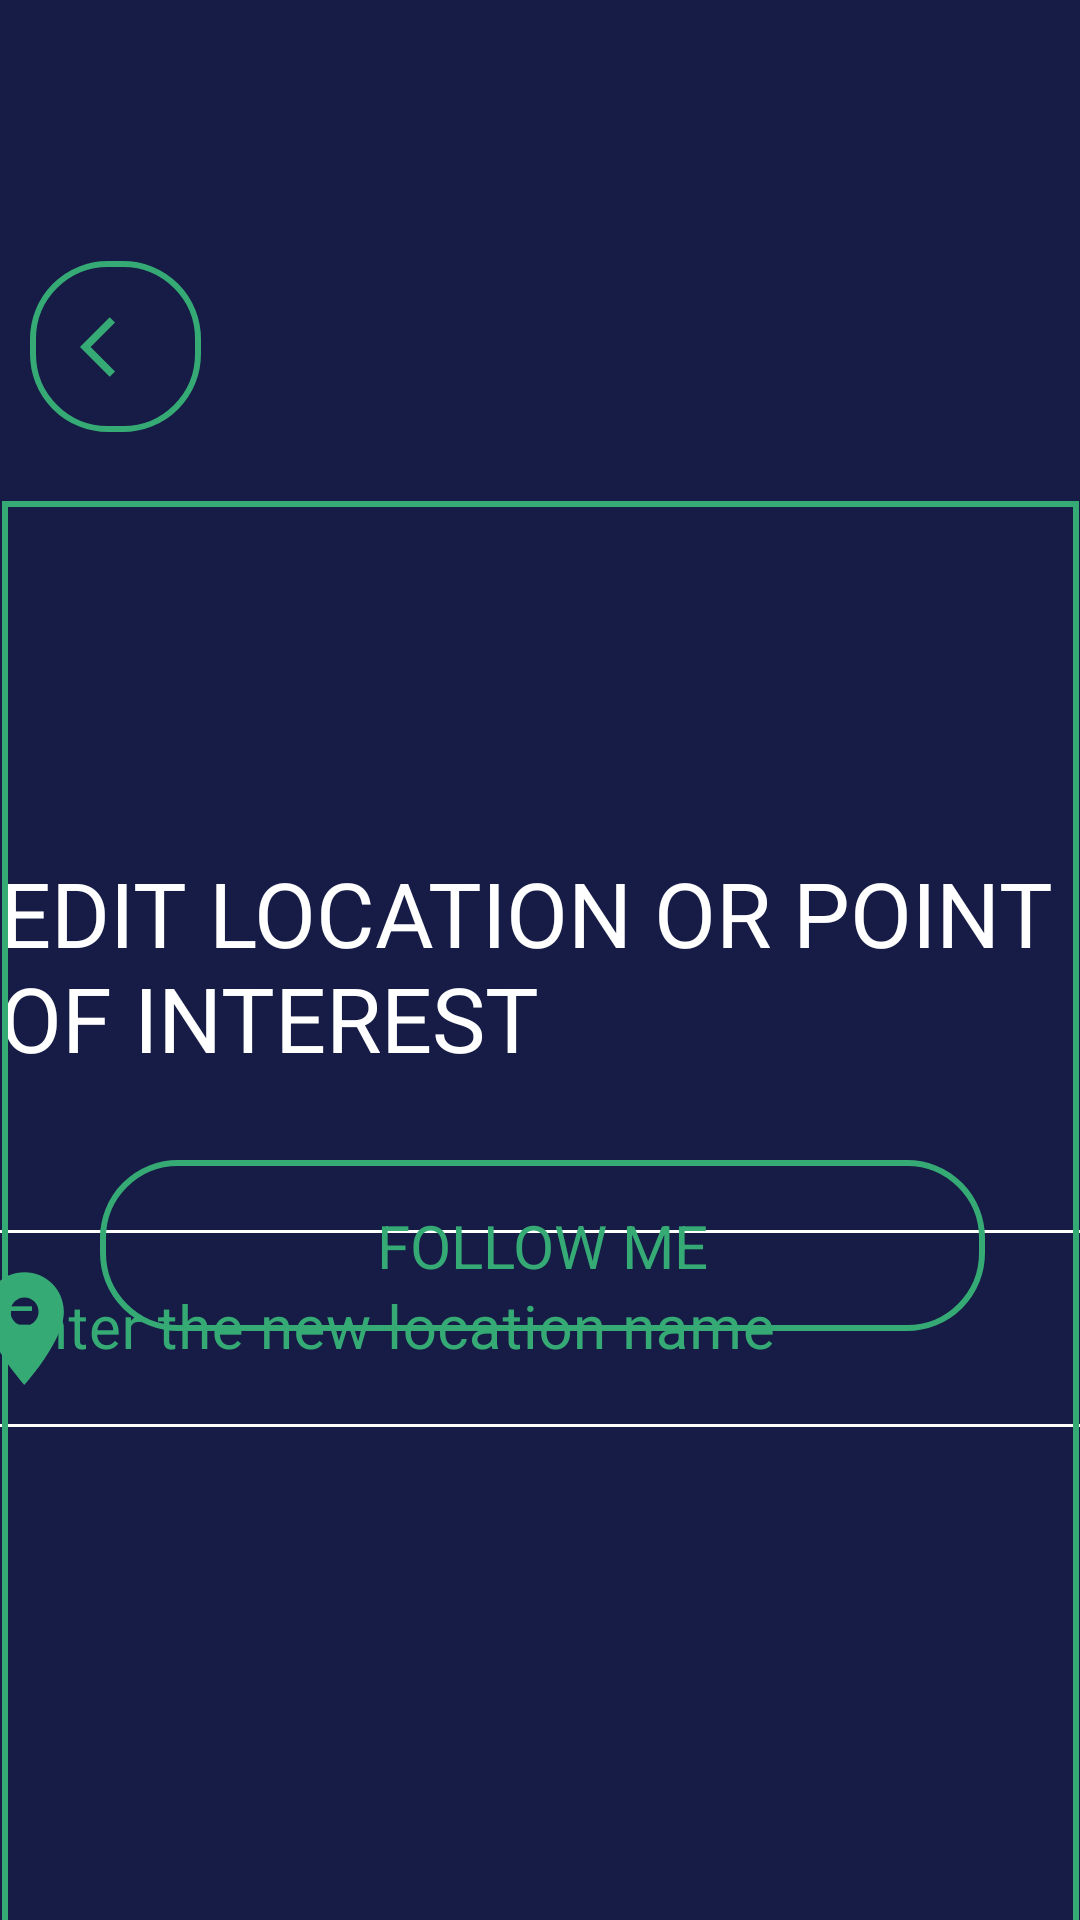

Named icons in this screenshot (1080*1920) and their bounding boxes, (x1, y1, x2, y2):
back: (30, 261, 201, 432)
